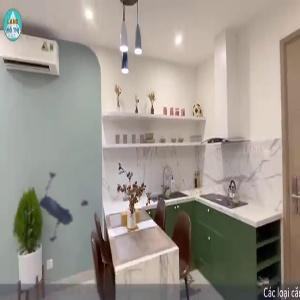drone: (14, 155, 116, 257)
